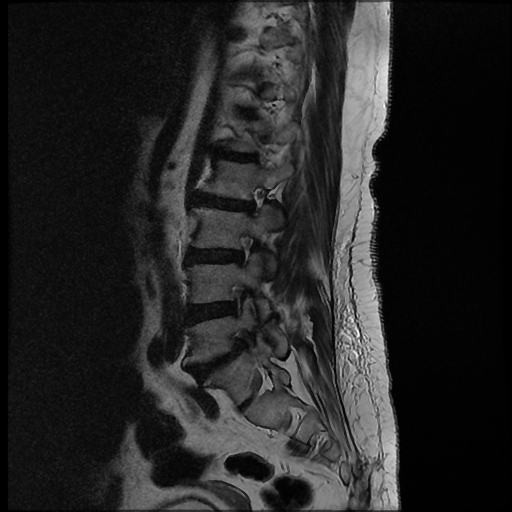RFS0: (240, 179, 274, 224)
RFS1: (229, 226, 262, 273)
RFS3: (223, 279, 255, 324), (226, 325, 260, 362)
